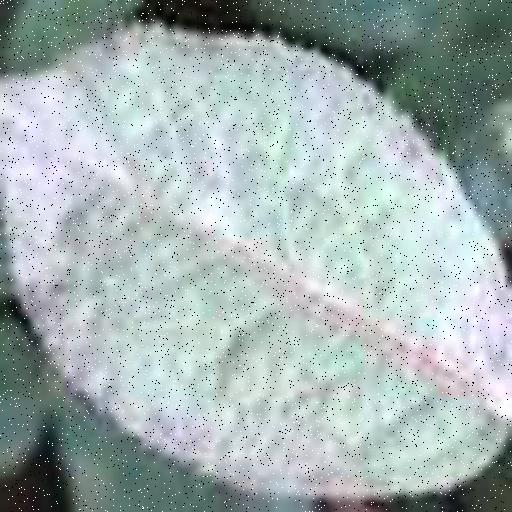powdery_mildew: (0, 24, 512, 500)
